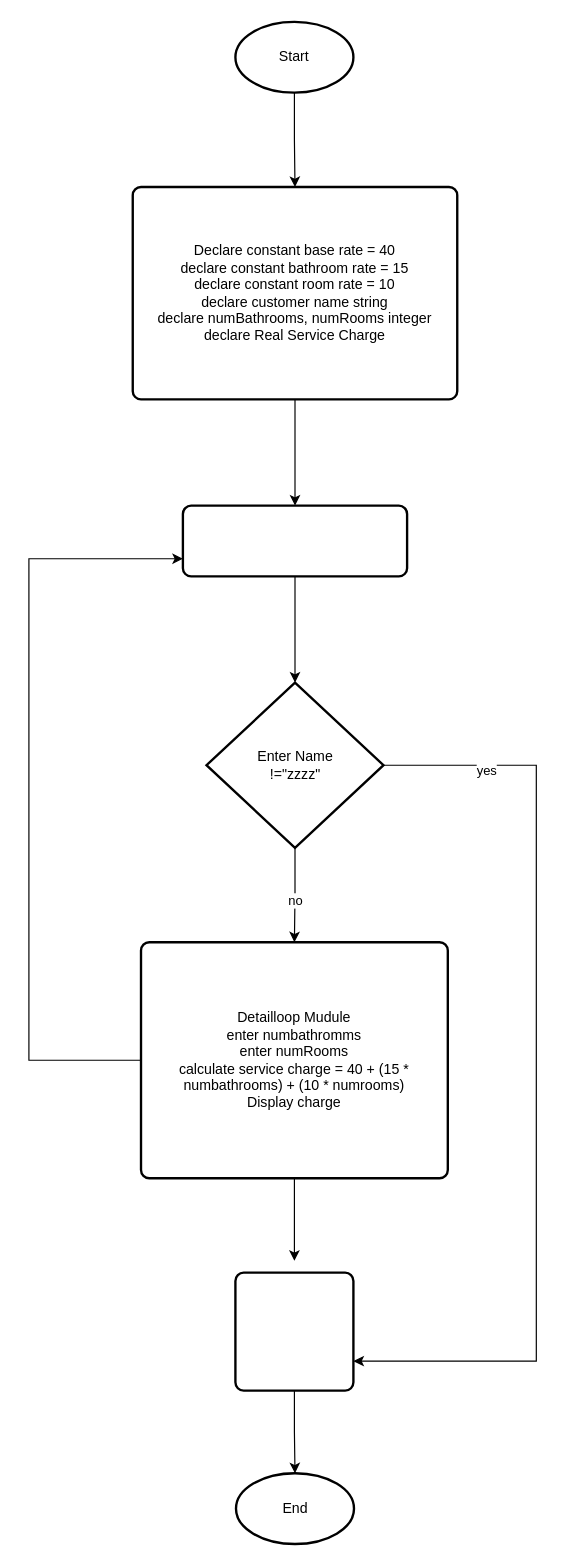
Some shapes in this 566 by 1565 pixel diagram are drawn without their labels. Here are the shapes that lost their labels. From the top down, the centre of each, then its label:
point 294,540: Hazel's Housekeeping Service Ask for name
point 294,1331: EOJ Display "Complete"
